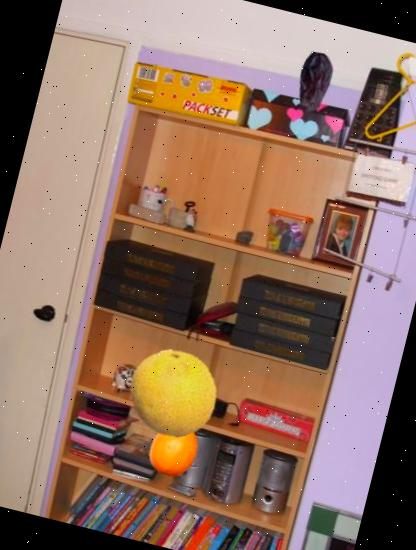Cantaloupe: (121, 340, 228, 447)
Dates: (278, 45, 352, 120)
Lemon: (141, 416, 208, 483)
